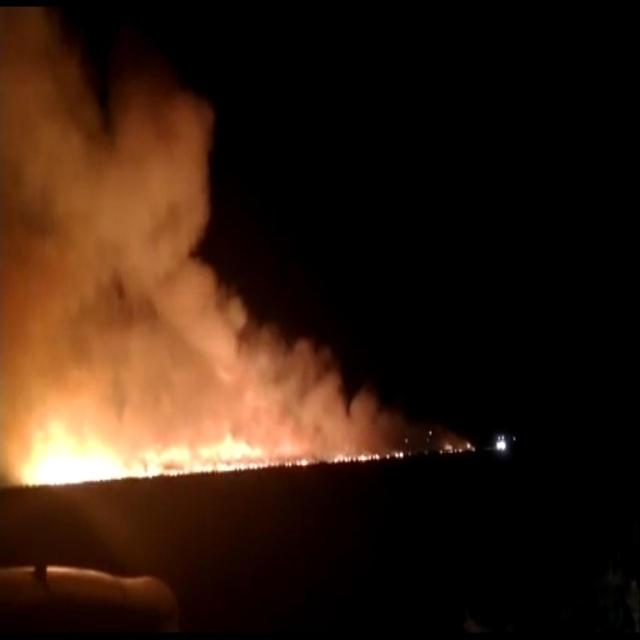Fire: (25, 414, 309, 481), (326, 437, 406, 466), (439, 442, 454, 453), (465, 440, 475, 450)
